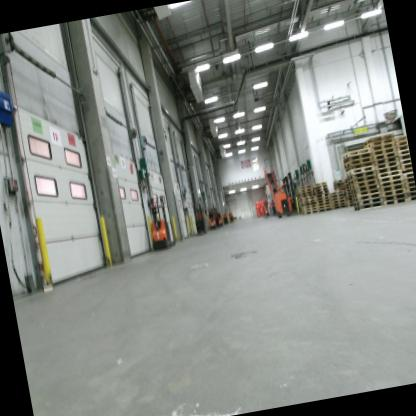forklift: (272, 174, 296, 212), (280, 167, 298, 215), (267, 177, 291, 212)
pallet: (311, 181, 348, 209), (362, 131, 394, 146), (343, 154, 373, 168), (341, 146, 372, 159), (345, 164, 376, 177), (345, 169, 376, 180), (347, 173, 378, 184), (347, 177, 378, 188), (352, 191, 383, 202), (363, 138, 394, 148), (341, 152, 372, 162), (353, 201, 384, 211), (350, 183, 379, 193), (353, 197, 384, 206), (344, 161, 374, 170), (372, 150, 396, 161), (377, 168, 403, 178), (350, 188, 382, 196), (380, 182, 405, 192), (383, 192, 408, 202), (383, 197, 409, 206), (375, 160, 400, 169), (371, 142, 395, 151), (373, 156, 399, 164), (376, 165, 402, 173), (378, 174, 403, 182), (379, 178, 404, 186), (382, 188, 405, 196), (372, 147, 395, 154), (329, 194, 345, 201), (301, 209, 319, 215), (330, 198, 347, 204), (301, 207, 318, 213), (300, 204, 317, 210), (300, 201, 317, 207), (298, 193, 315, 199), (403, 180, 415, 188), (329, 191, 345, 197), (300, 196, 316, 202), (393, 135, 406, 142), (318, 206, 333, 212), (296, 185, 311, 191), (300, 199, 317, 204), (398, 153, 410, 160), (397, 149, 409, 156), (315, 192, 329, 198), (296, 191, 312, 196), (396, 145, 409, 151), (400, 158, 411, 165), (396, 140, 407, 147), (332, 201, 347, 206), (315, 198, 330, 203), (316, 201, 331, 206), (297, 188, 312, 193), (402, 176, 414, 182), (406, 196, 416, 203), (406, 186, 416, 193), (329, 189, 343, 194), (312, 184, 326, 189), (316, 195, 330, 200), (401, 164, 412, 170), (314, 187, 327, 192), (315, 190, 328, 195), (318, 204, 331, 209), (406, 191, 416, 197), (403, 171, 413, 177), (402, 169, 413, 173), (347, 203, 355, 208), (345, 196, 353, 201), (346, 200, 354, 204), (345, 194, 352, 198), (345, 191, 351, 195), (345, 188, 351, 192), (345, 185, 351, 189), (344, 182, 349, 186)
pallet_truck: (141, 191, 173, 256), (188, 202, 209, 238), (206, 203, 219, 230), (214, 206, 224, 227), (221, 208, 231, 229), (227, 208, 234, 222)
